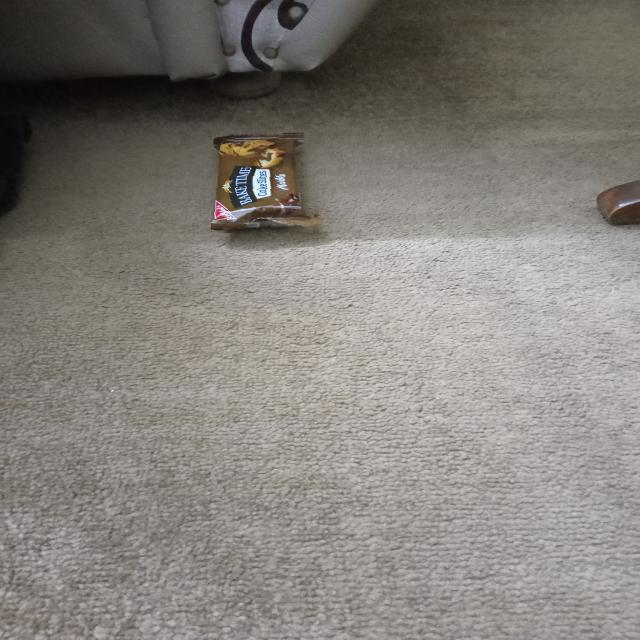Plastic: (211, 132, 321, 233)
